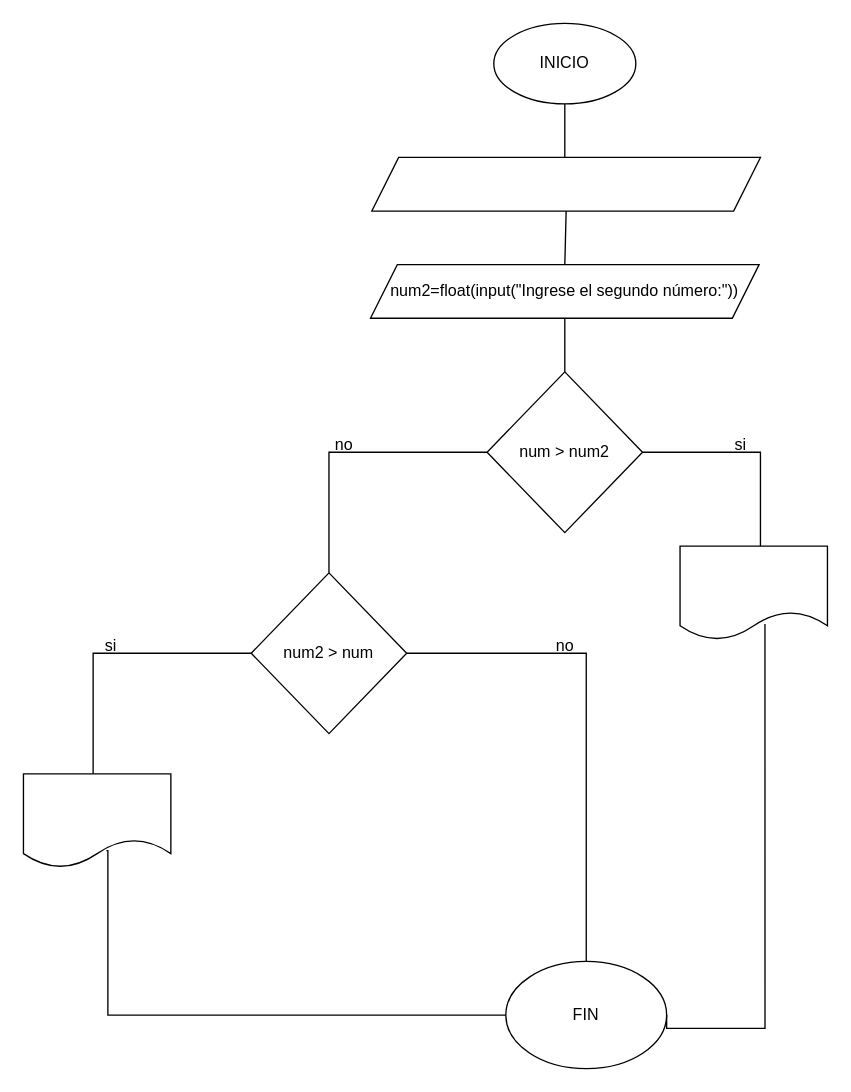
The diagram is 851 pixels wide and 1092 high, and some of its shapes have lost their labels. Each missing label, with the centre of its shape:
el numero {num2} es mayor que el otro numero: the point at 96,820
el numero {num} es mayor que el otro numero: the point at 753,592
num=float(input("Ingrese el primer número:")): the point at 565,183
